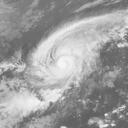cyclone: (27, 32, 98, 89)
